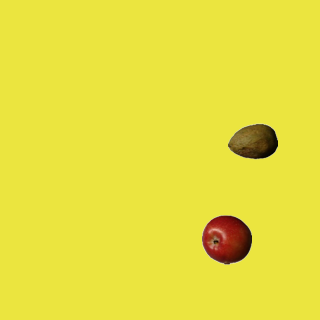Apple Braeburn: (201, 214, 251, 264)
Papaya: (227, 116, 277, 166)
